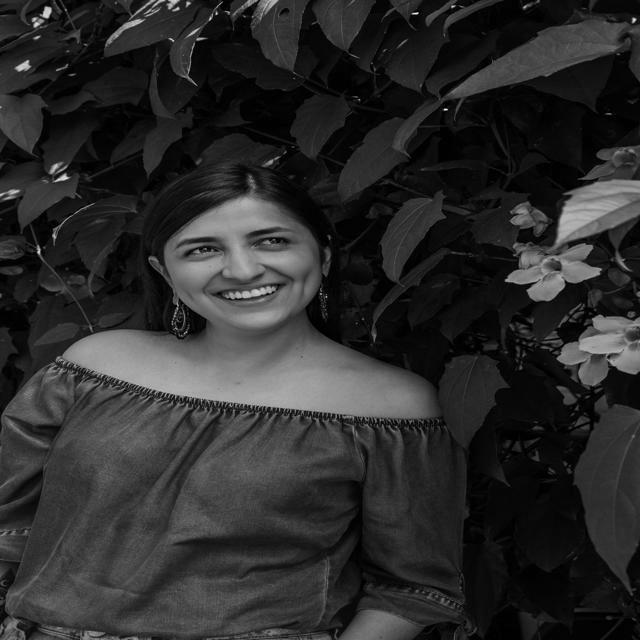Happiness: (158, 192, 325, 335)
